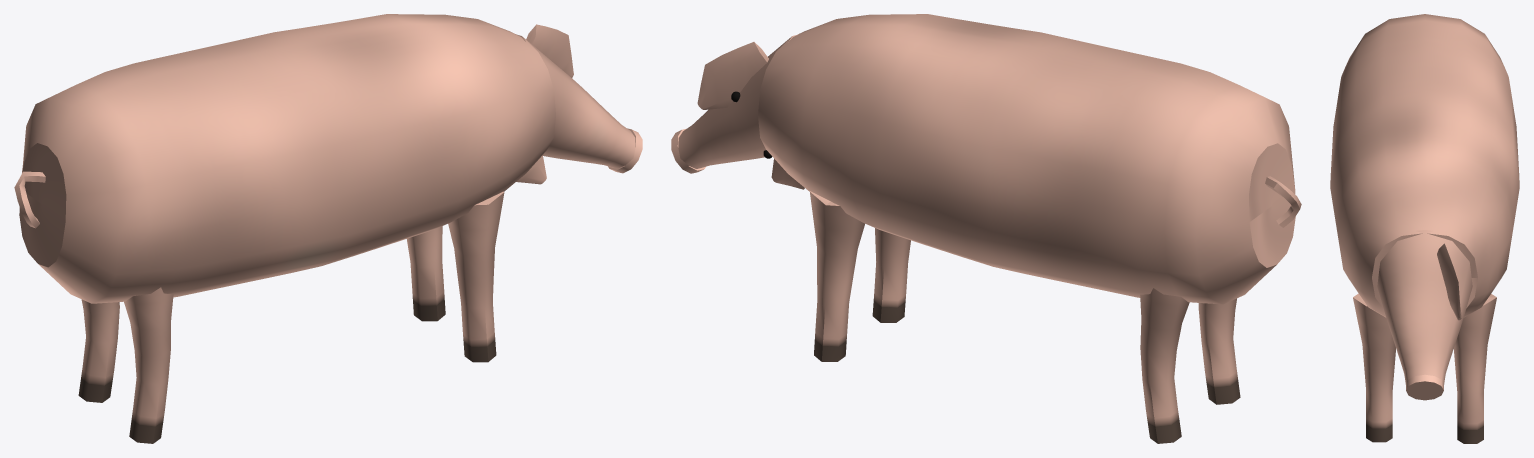
File: tpl_life_pigs_1850_pig_landvarken_stand.glb
3 views of the same model, side by side, from view 1: azimuth 30°, elevation 25°; view 2: azimuth 150°, elevation 25°; view 3: azimuth 270°, elevation 25° (orthographic). The views are drawn at different scales.
Visible parts, largest first — view 1: tpl_life_pigs_1850_pig_landvarken_stand; view 2: tpl_life_pigs_1850_pig_landvarken_stand; view 3: tpl_life_pigs_1850_pig_landvarken_stand.
Part boxes in pixels (x1,y1,x2,y2): tpl_life_pigs_1850_pig_landvarken_stand: [14, 14, 642, 443]; tpl_life_pigs_1850_pig_landvarken_stand: [671, 14, 1301, 443]; tpl_life_pigs_1850_pig_landvarken_stand: [1330, 14, 1519, 443].
Bounding box in the file's own units: 1.57 × 0.8089 × 0.4992.
2 materials, 1 textured.
